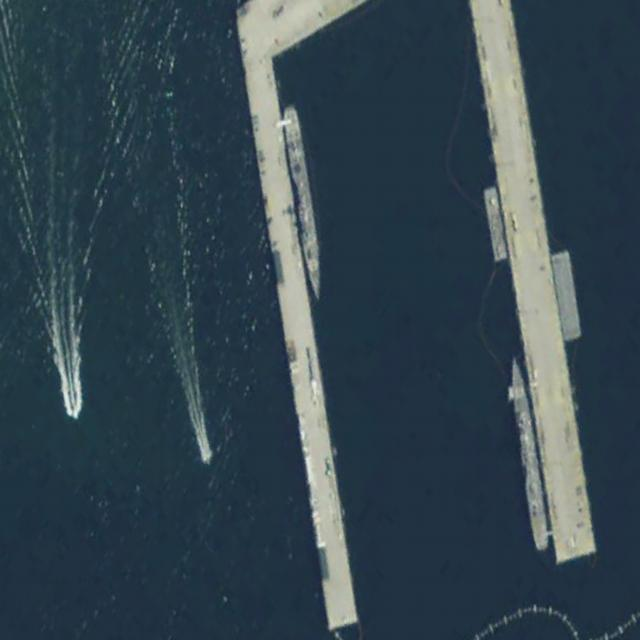Other Warship: (281, 104, 327, 303), (507, 353, 550, 553)
